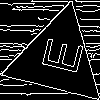E: (32, 33, 84, 76)
